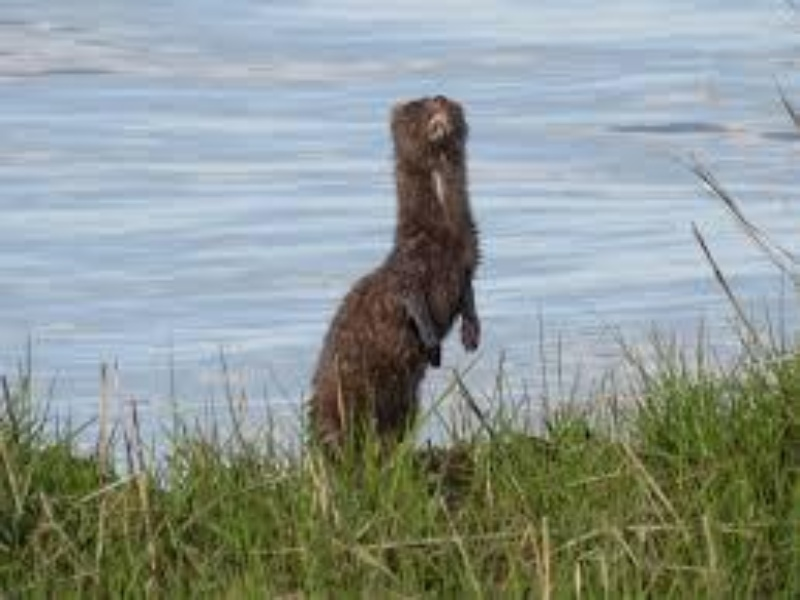minkish: (304, 92, 485, 435)
